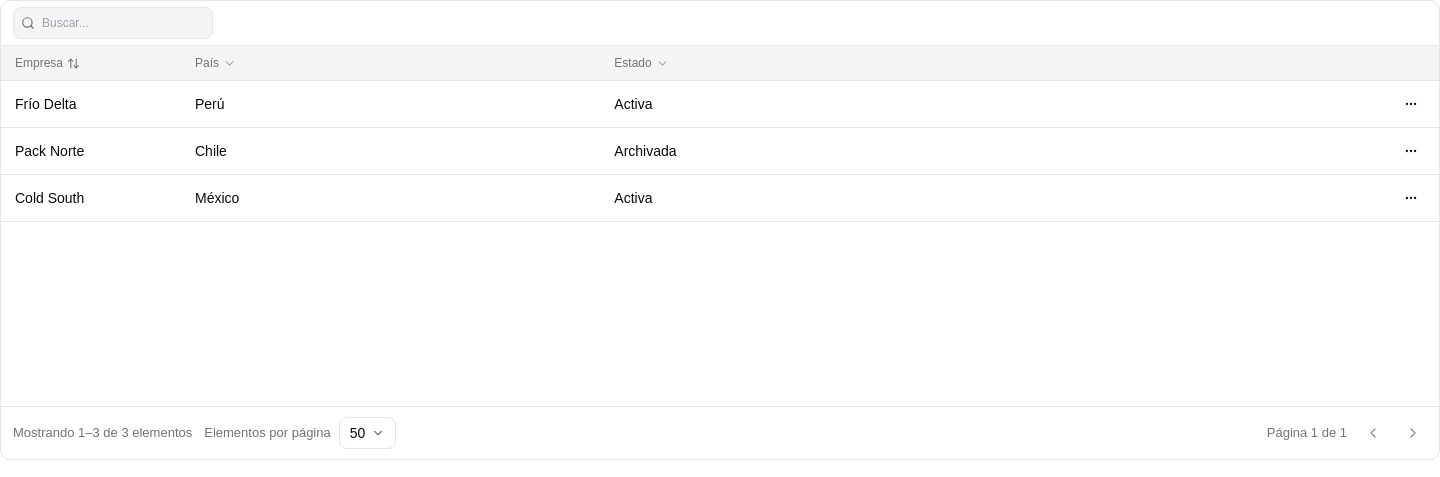
Test: on desktop the row submenu opens on the side with room and stays on screen
The width and height of the screenshot is (1440, 477).
Click the button named "Opciones" in the row of "Frío Delta" at (1411, 104), box [1397, 90, 1425, 118]
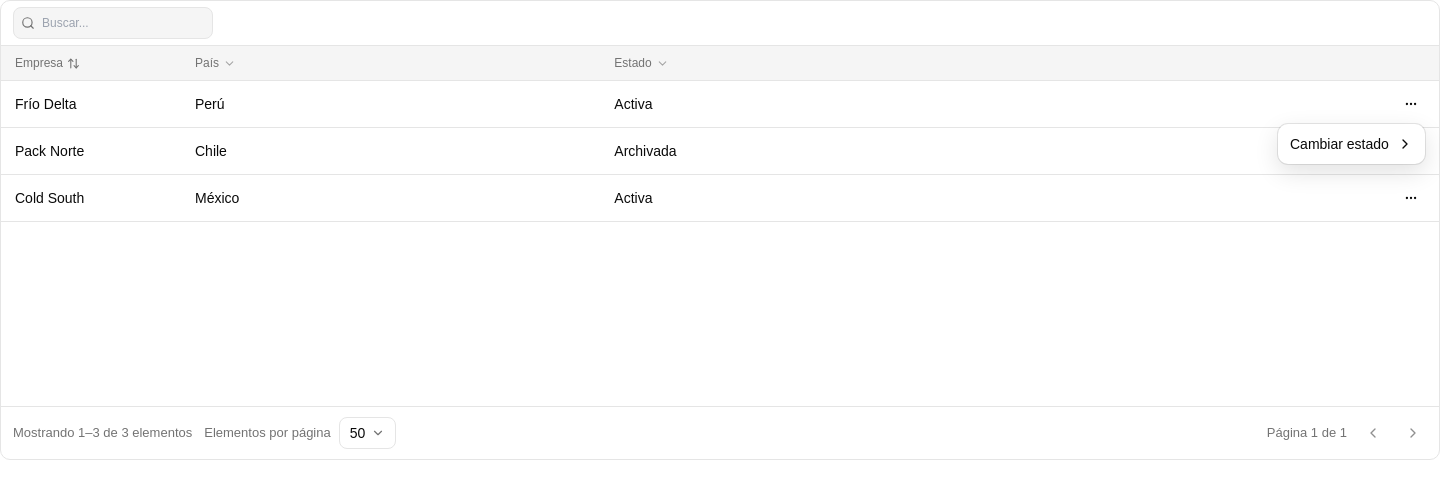
Click the menu item "Cambiar estado" at (1351, 144), box [1290, 136, 1413, 152]
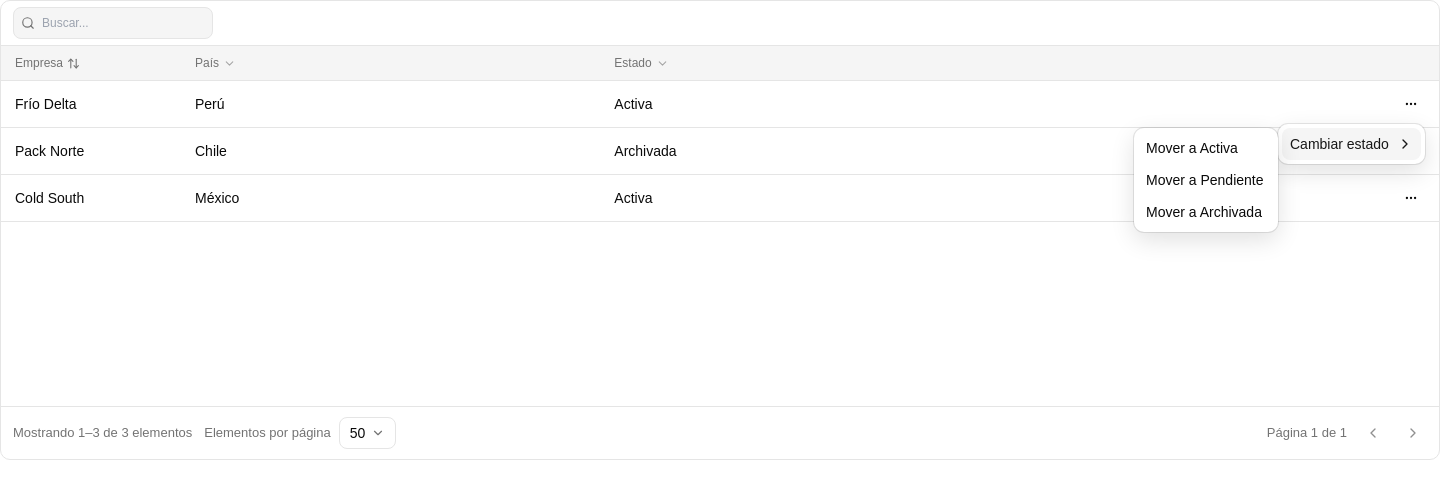
Result: the menu item "Mover a Archivada" is shown at [1146, 204, 1262, 220]
